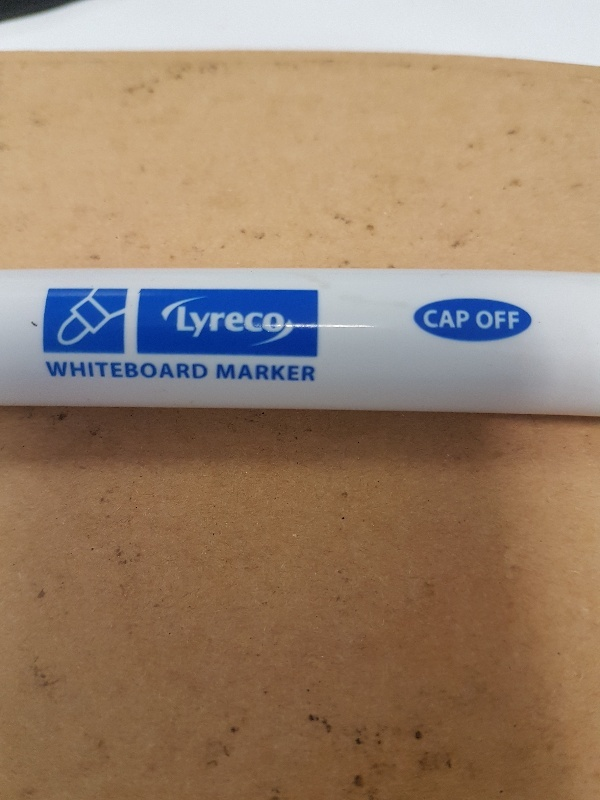text: (177, 306, 192, 339), (193, 306, 208, 339), (209, 306, 224, 339), (225, 306, 240, 339), (241, 306, 256, 339), (257, 306, 272, 339), (273, 306, 285, 339), (433, 309, 448, 329), (449, 309, 464, 329), (481, 310, 496, 330), (497, 310, 512, 330), (49, 361, 64, 379), (65, 361, 80, 379), (81, 361, 96, 379), (97, 361, 112, 379), (113, 361, 128, 379), (129, 361, 144, 379), (145, 361, 160, 379), (161, 361, 176, 379), (177, 361, 192, 379), (193, 361, 208, 379), (225, 364, 240, 382), (241, 364, 256, 382), (257, 364, 272, 382), (273, 364, 288, 382), (289, 364, 304, 382), (305, 364, 316, 382), (423, 309, 432, 329), (513, 310, 520, 330), (217, 364, 224, 382), (465, 309, 471, 329), (476, 310, 480, 330), (46, 361, 48, 379)
